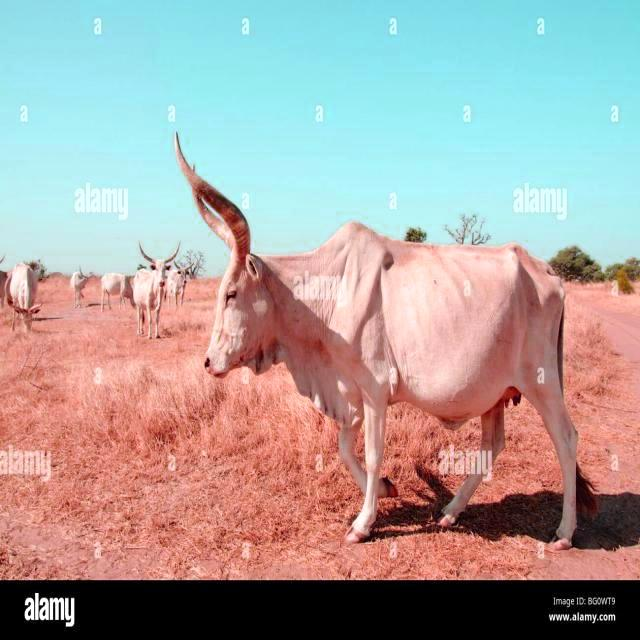COW: (177, 135, 594, 548)
